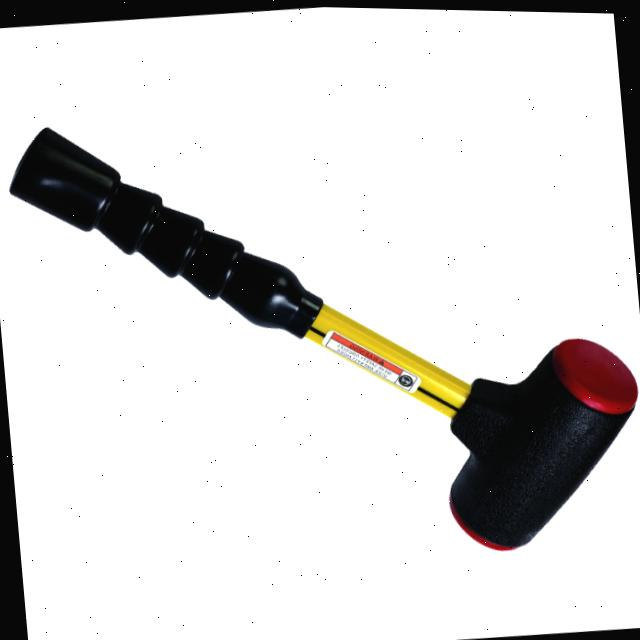hammer: (0, 65, 640, 600)
